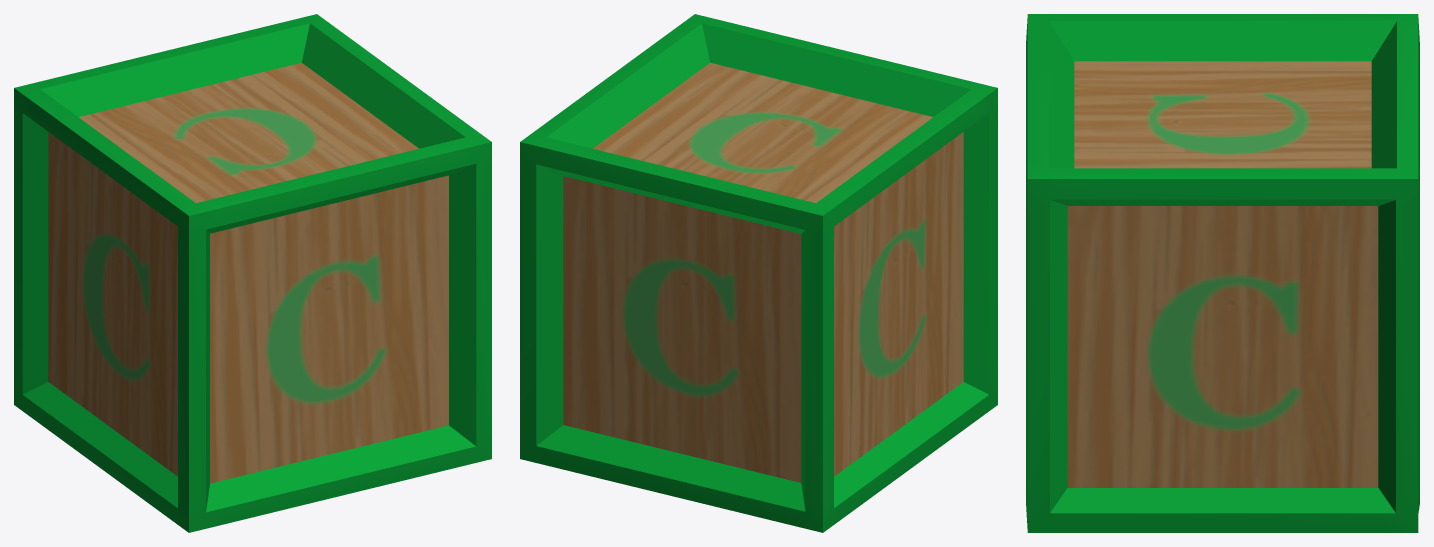
The model's file is Letter_C.fbx.
3 renders of one model, left to right at view 1: azimuth 30°, elevation 25°; view 2: azimuth 150°, elevation 25°; view 3: azimuth 270°, elevation 25°, orthographic. The views are drawn at different scales.
Parts seen in each view (by area): view 1: LetterBlock_C; view 2: LetterBlock_C; view 3: LetterBlock_C.
Part boxes in pixels (x1,y1,x2,y2): LetterBlock_C: [14, 14, 491, 532]; LetterBlock_C: [520, 14, 997, 532]; LetterBlock_C: [1026, 14, 1419, 532].
Size of the model in its own units: 0.1209 by 0.1213 by 0.121.
1 material, 1 textured.
